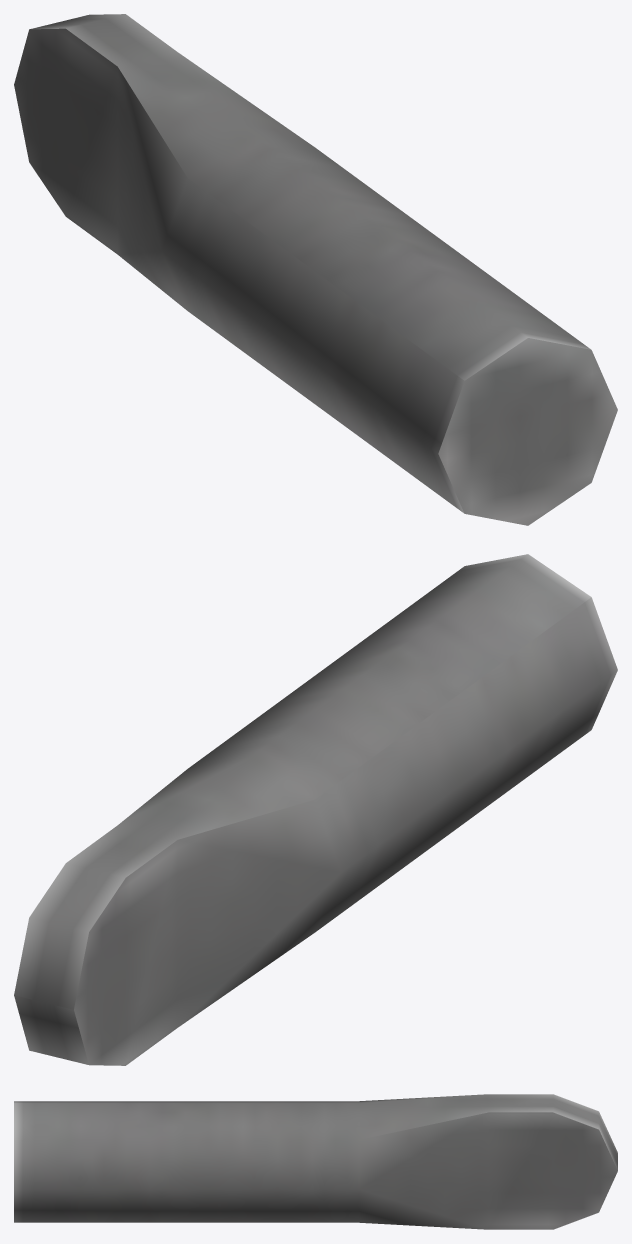
3 views of the same model, one above another, from view 1: azimuth 30°, elevation 25°; view 2: azimuth 150°, elevation 25°; view 3: azimuth 270°, elevation 25° (orthographic). The views are drawn at different scales.
Parts seen in each view (by area): view 1: big_piston; view 2: big_piston; view 3: big_piston.
Boxes of the visible parts, x1,y1,x2,y2 form: big_piston: [14, 14, 617, 525]; big_piston: [14, 554, 617, 1065]; big_piston: [14, 1094, 617, 1229].
Size of the model in its own units: 0.0375 by 0.0375 by 0.175.
1 material, 1 textured.
